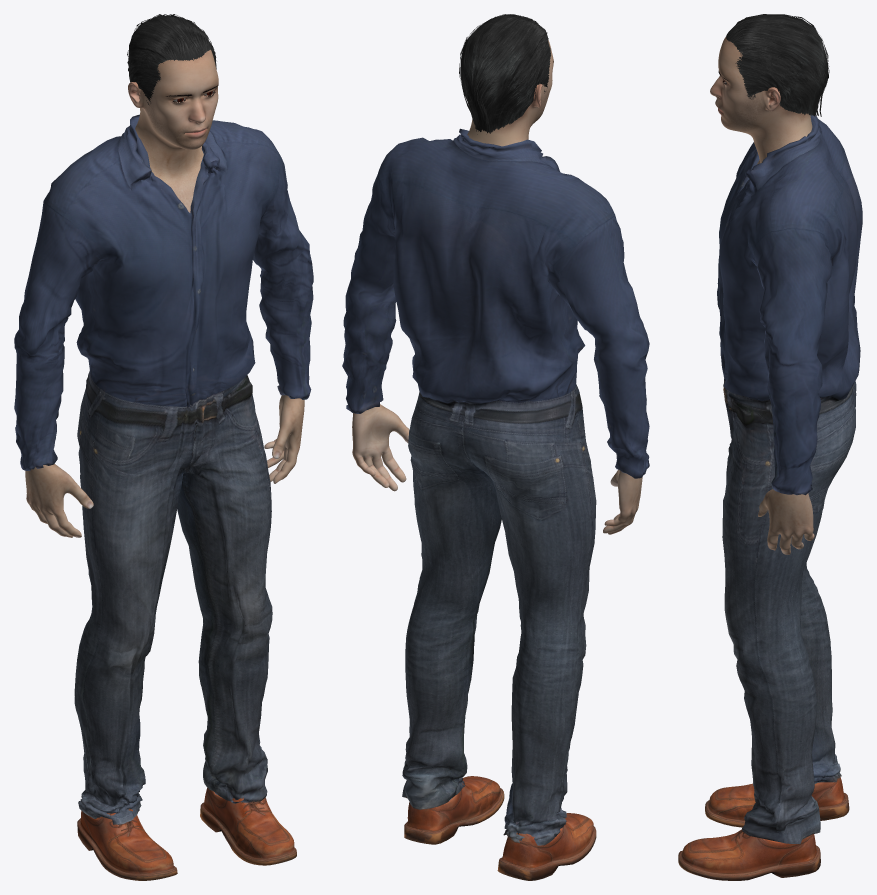
File: demo.glb
3 views of the same model, side by side, from view 1: azimuth 30°, elevation 25°; view 2: azimuth 150°, elevation 25°; view 3: azimuth 270°, elevation 25° (orthographic).
Parts seen in each view (by area): view 1: male_casualsuit01, Avery | anatomical body, shoes01, short04; view 2: male_casualsuit01, short04, shoes01, Avery | anatomical body; view 3: male_casualsuit01, shoes01, Avery | anatomical body, short04.
Boxes of the visible parts, bbox=[...] form: male_casualsuit01: bbox=[14, 114, 313, 824]; Avery | anatomical body: bbox=[25, 49, 304, 537]; shoes01: bbox=[77, 785, 296, 880]; short04: bbox=[127, 14, 216, 105]; male_casualsuit01: bbox=[342, 128, 649, 845]; short04: bbox=[459, 14, 550, 134]; shoes01: bbox=[404, 776, 596, 880]; Avery | anatomical body: bbox=[352, 40, 642, 534]; male_casualsuit01: bbox=[717, 115, 862, 843]; shoes01: bbox=[678, 777, 849, 880]; Avery | anatomical body: bbox=[710, 37, 814, 554]; short04: bbox=[726, 14, 829, 116].
Size of the model in its own units: 0.6583 by 1.76 by 0.359.
9 materials, 9 textured.
